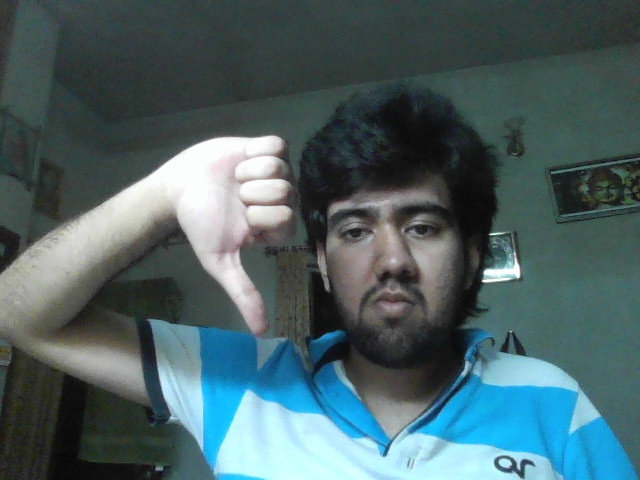NotOk: (178, 135, 296, 337)
